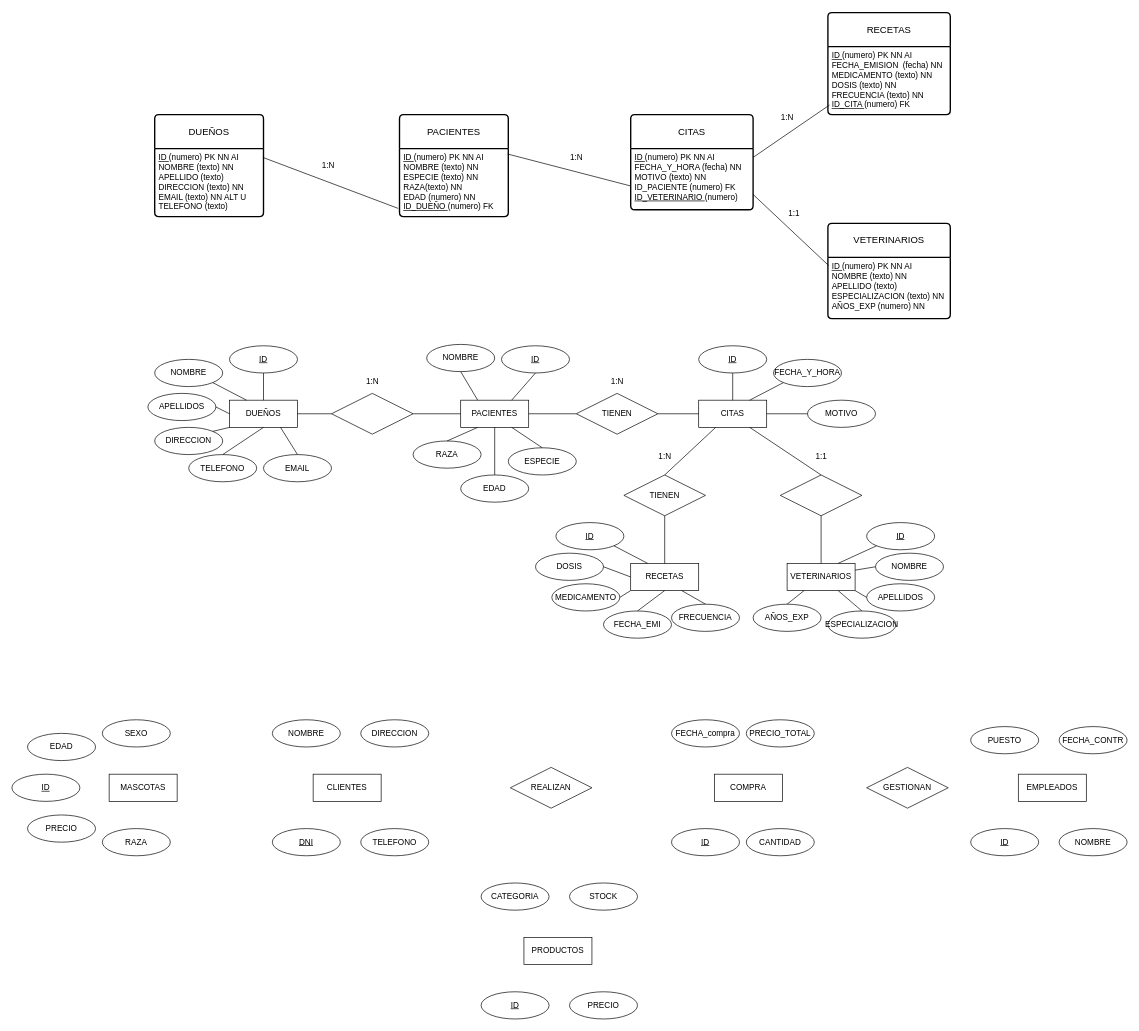
The diagram is 1139 pixels wide and 1031 high, and some of its shapes have lost their labels. Here are the shapes that lost their labels. From the top down, the centre of each, then its label:
At [372,413]: "POSEEN".
At [821,495]: "ATIENDEN".
